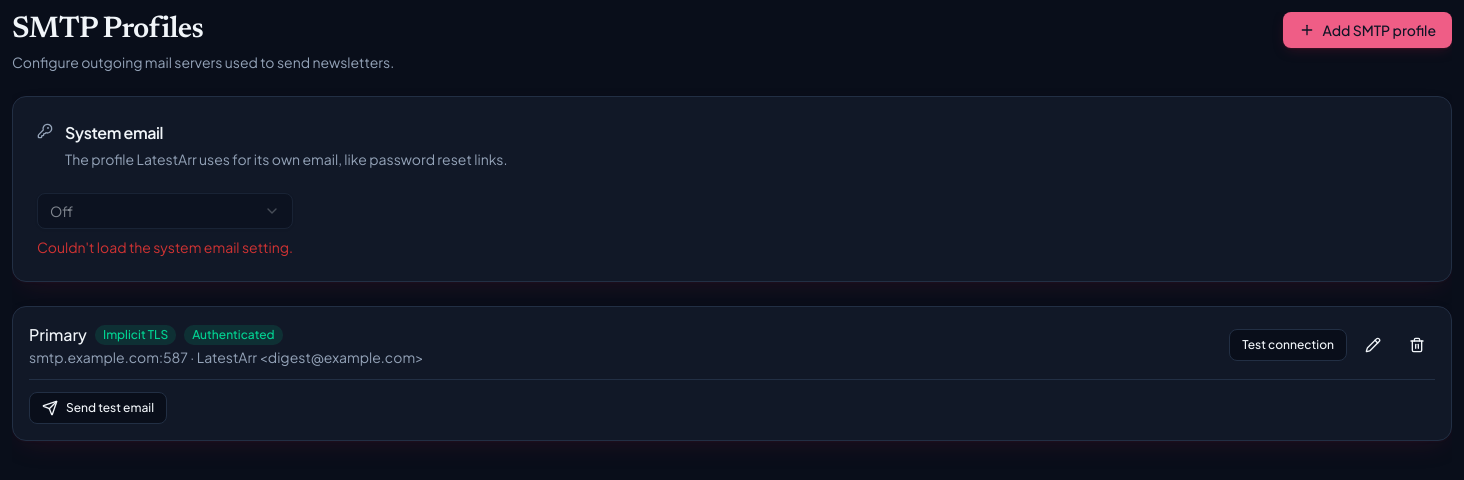
Scenario: SmtpProfilesPage › tests a connection and shows the result
The width and height of the screenshot is (1464, 480).
Expected: the text "Primary" is shown, [29,323,87,347]
What coordinates should you click on to do the following:
click the button "Test connection"
I would click on:
 (1288, 345)
Its box is [1229,329,1347,361].
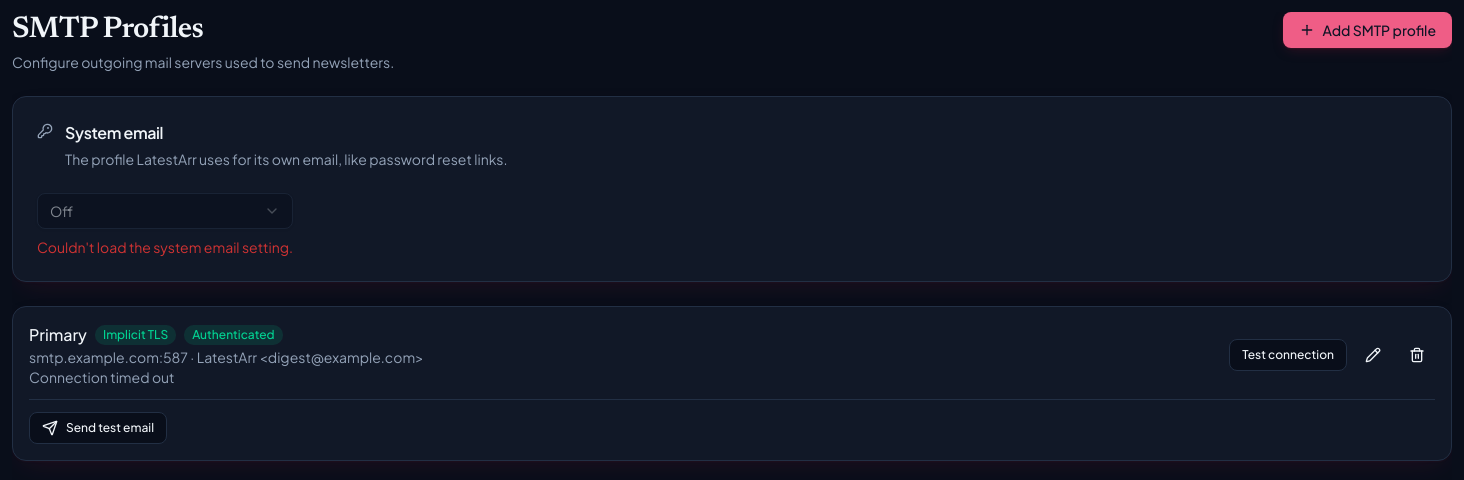
Expected: the text "Connection timed out" is shown, [29,368,174,386]
